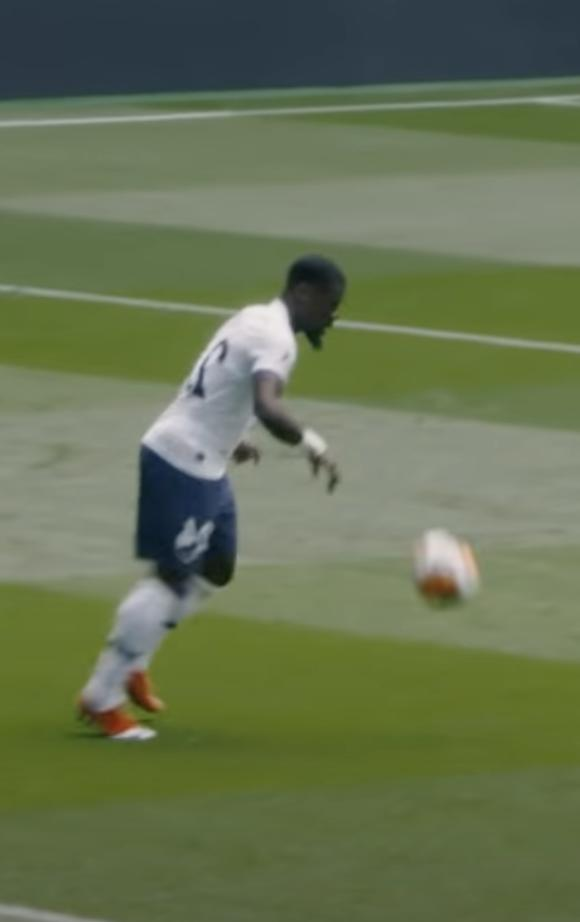ball: (407, 531, 481, 609)
foot: (73, 695, 158, 746)
person: (76, 251, 351, 749)
